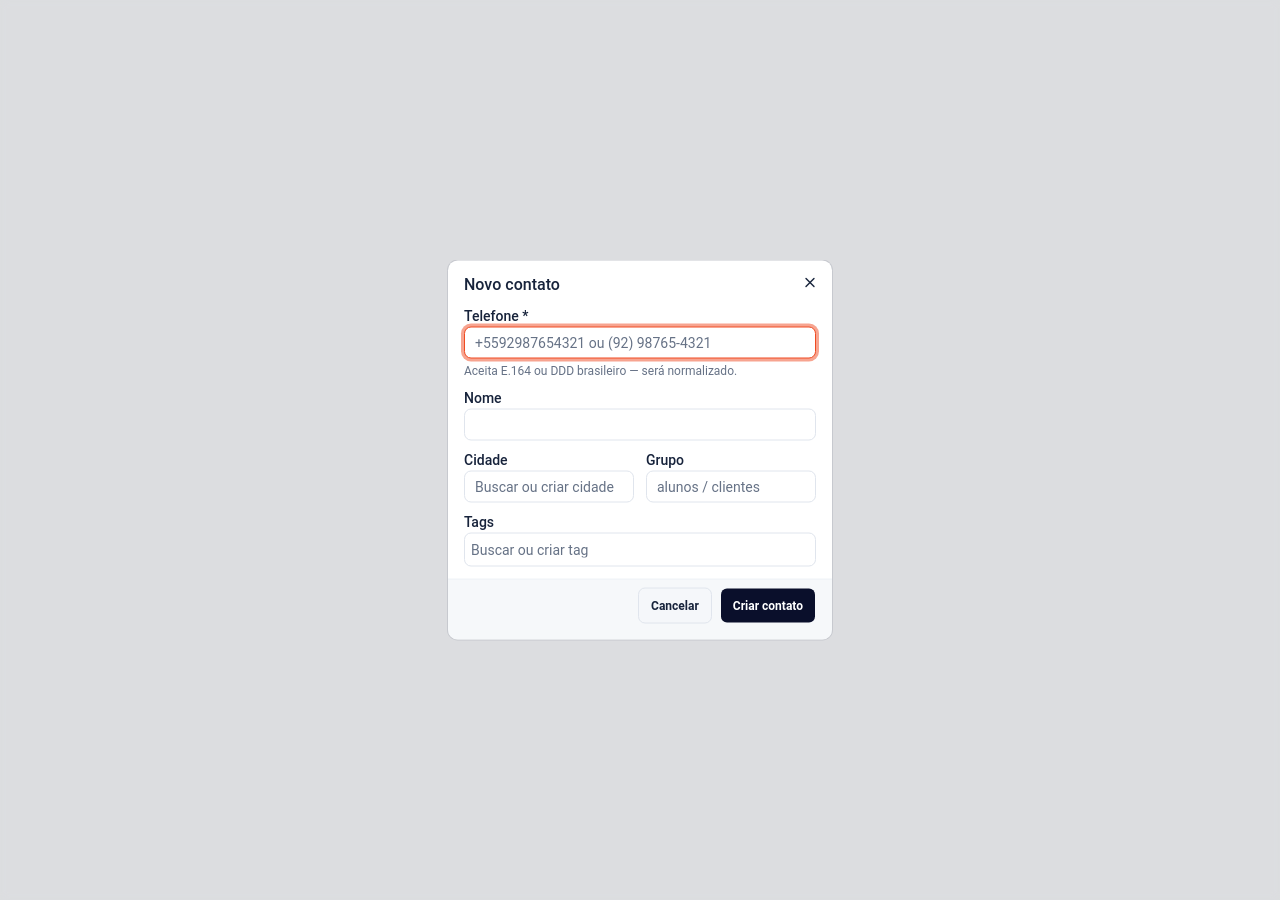
ContactFormDialog — error ladder › maps contact.phone_conflict to a phone field error (no toast)
The width and height of the screenshot is (1280, 900).
Type "+5592987654321" into the field labelled "Telefone *" at x=640, y=342, box [464,326,816,358]
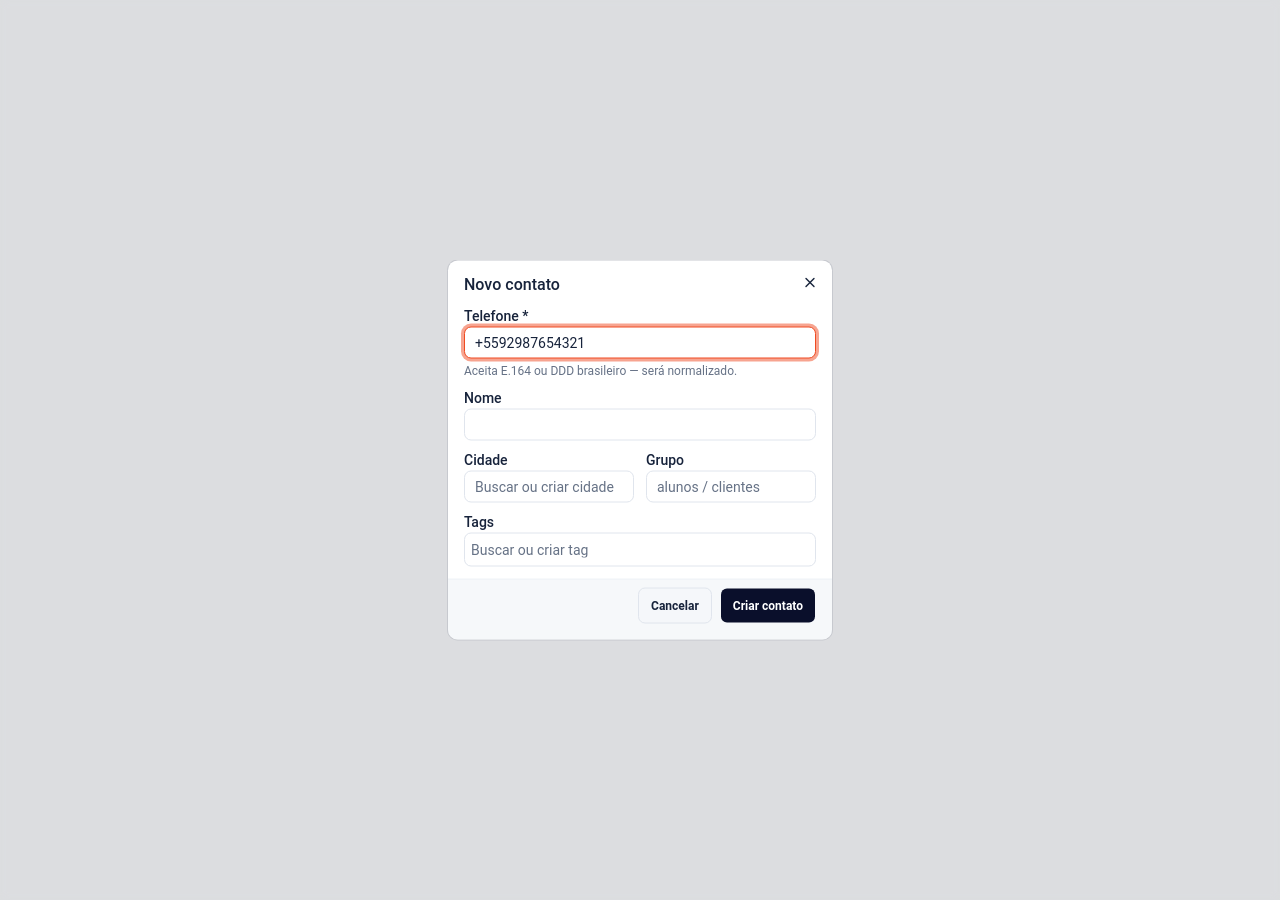
Click the button "Criar contato" at x=768, y=606, box [720,588,816,624]
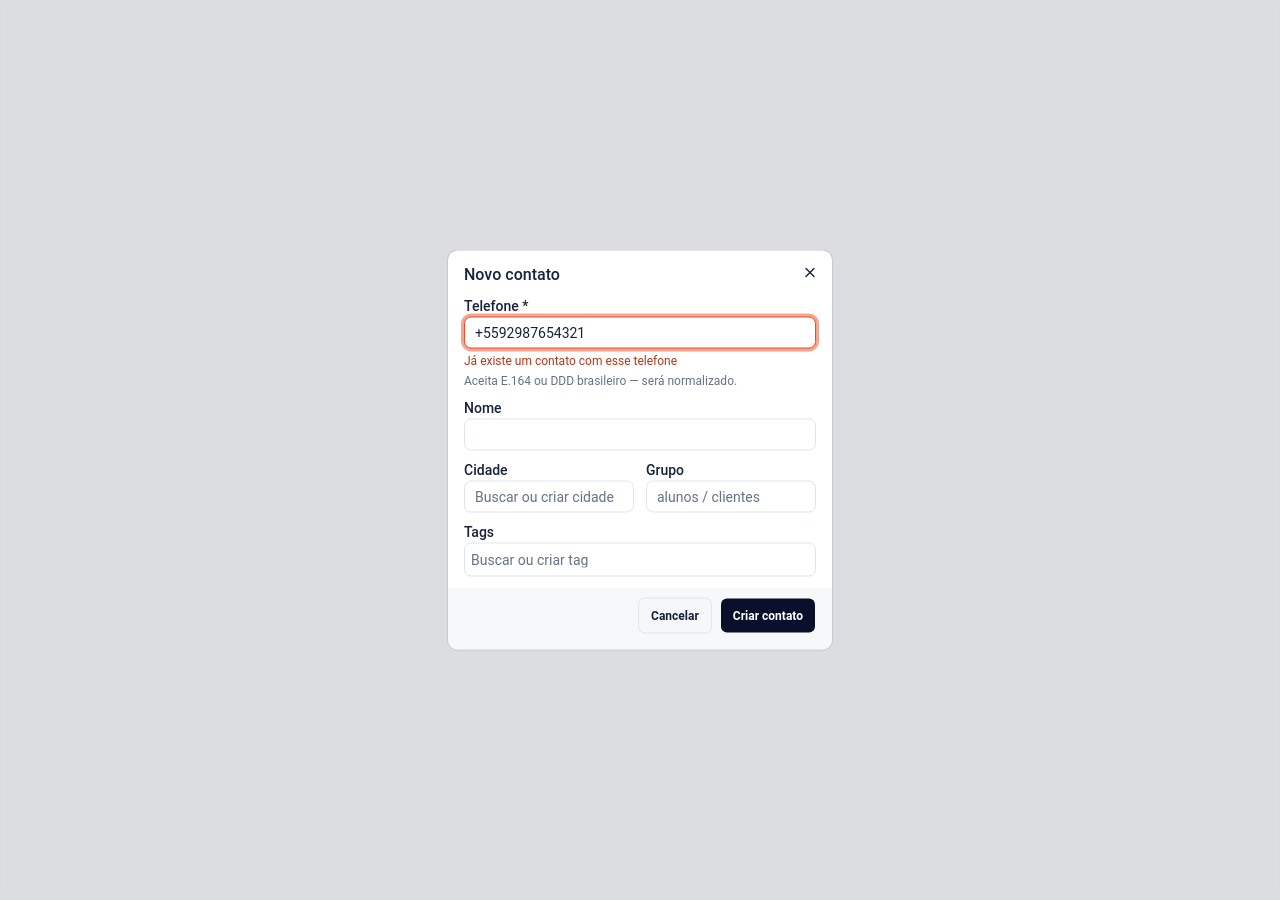
Result: the text "Já existe um contato com esse telefone" is shown at [464,354,677,368]
